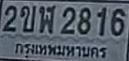1: (96, 6, 106, 34)
2: (60, 6, 75, 33), (2, 4, 16, 31)
6: (110, 8, 124, 34)
8: (77, 7, 90, 33)
A02: (20, 5, 35, 31)
A42: (38, 4, 55, 32)
BKK: (12, 38, 109, 61)
